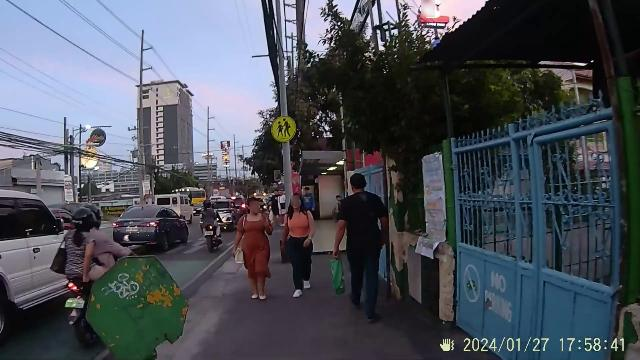street_sign: (270, 112, 298, 190)
